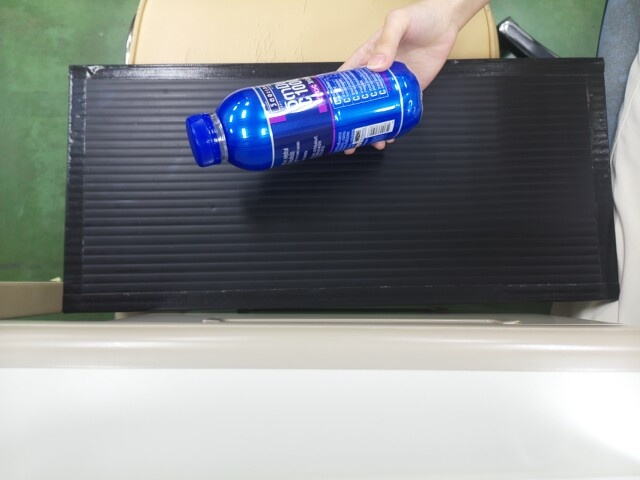plastic_bottle: (183, 75, 422, 157)
